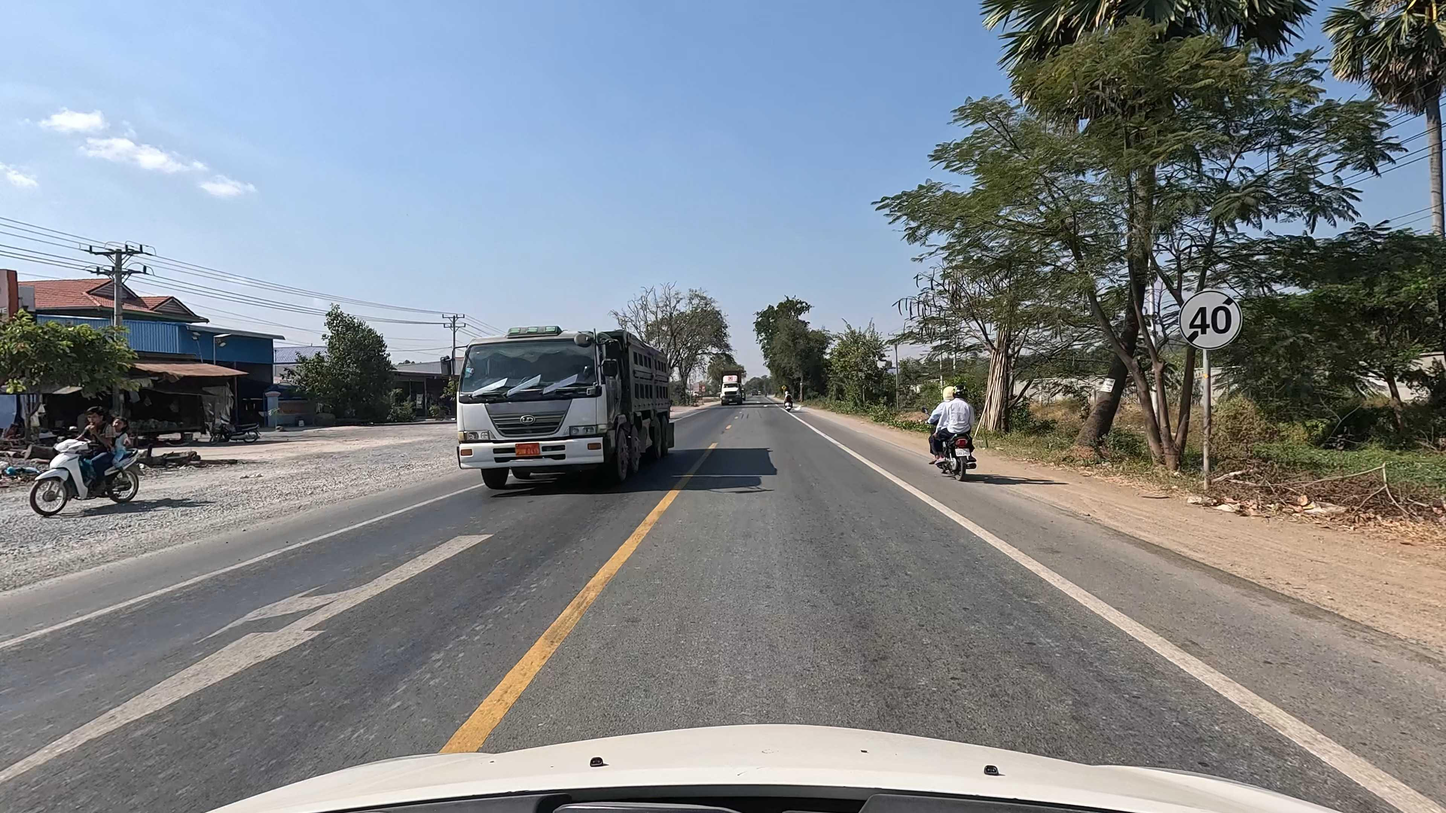end_speed_limit_40: (1178, 290, 1244, 350)
